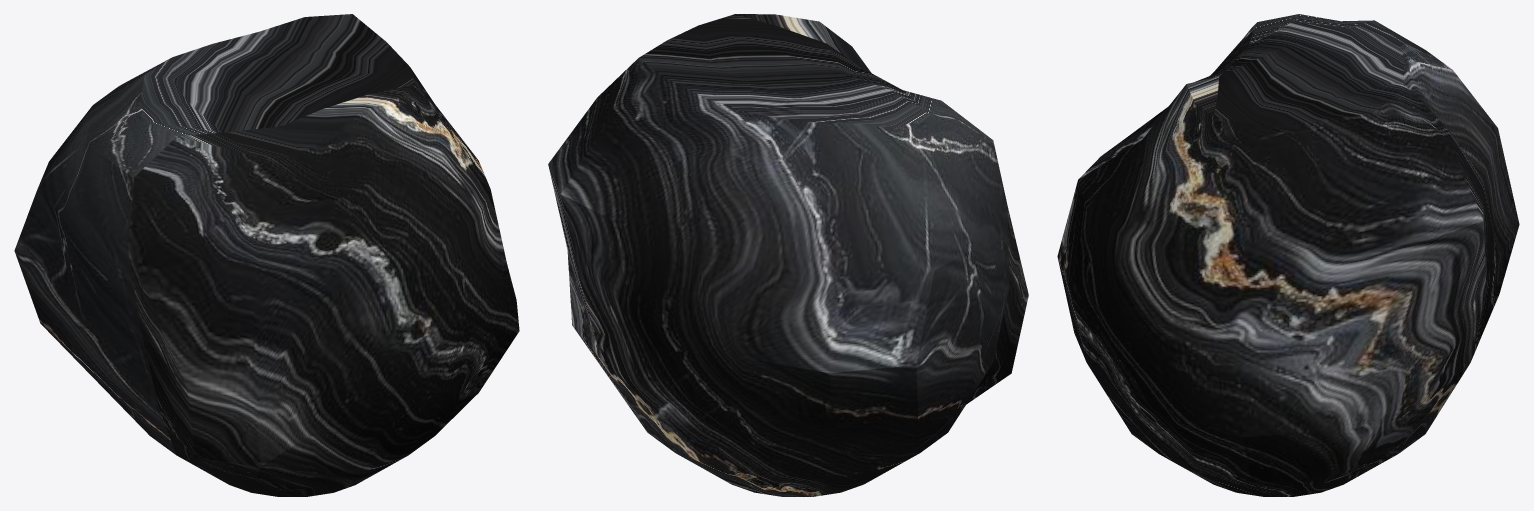
Rendered from Onice 1.fbx.
3 views of the same model, side by side, from view 1: azimuth 30°, elevation 25°; view 2: azimuth 150°, elevation 25°; view 3: azimuth 270°, elevation 25° (orthographic). The views are drawn at different scales.
Parts seen in each view (by area): view 1: Sphere.001; view 2: Sphere.001; view 3: Sphere.001.
Part boxes in pixels (left/top/right/bottom): Sphere.001: left=14, top=14, right=519, bottom=496; Sphere.001: left=548, top=14, right=1028, bottom=496; Sphere.001: left=1057, top=14, right=1519, bottom=496.
Bounding box in the file's own units: 219 × 200 × 209.
